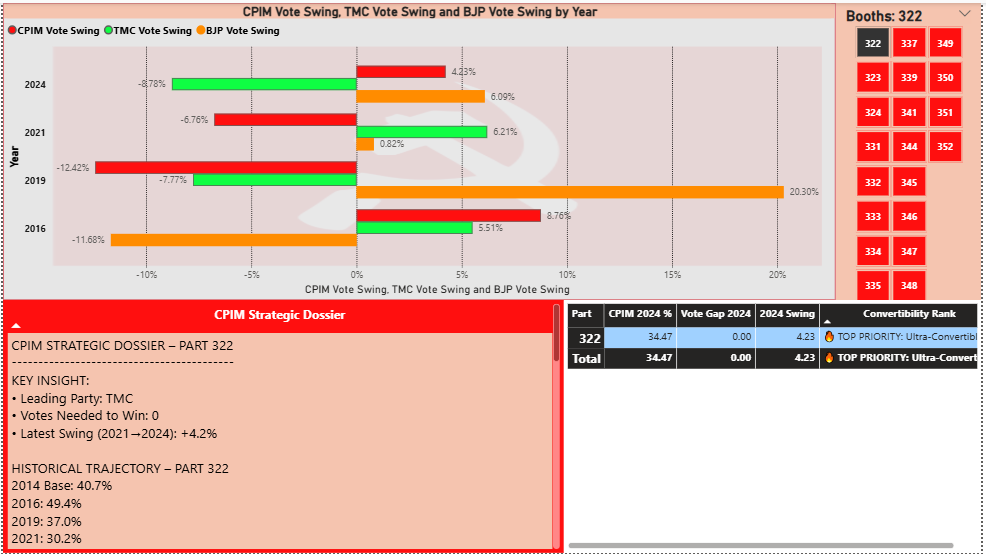

The page's visual inventory and layout, read from the dashboard file:
{"tool":"powerbi","page":{"name":"Page 2","canvas":[1280,720],"ordinal":1},"visuals":[{"type":"slicer","fields":{"Values":["Sheet1.Part"]},"box":[1090.5,0,189.8,398],"z":0},{"type":"clusteredBarChart","fields":{"Y":["Sheet1.CPIM Vote Swing","Sheet1.TMC Vote Swing","Sheet1.BJP Vote Swing"],"Category":["Sheet1.Year"]},"box":[0,0,1090.5,388.8],"z":1000},{"type":"tableEx","fields":{"Values":["Sheet1.CPIM Strategic Dossier"]},"box":[0,388.8,734.4,331.2],"z":2000},{"type":"pivotTable","fields":{"Values":["Sheet1.CPIM 2024 %","Sheet1.Vote Gap 2024","Sheet1.2024 Swing","Sheet1.Convertibility Rank"],"Rows":["Sheet1.Part"]},"box":[734.4,388.8,545.9,331.2],"z":3000}]}

Visuals, with their boxes in screenshot pixels (x1, y1, x2, y2), scaled from the page's 1280x720 canvas onto the 986x554 screenshot:
slicer - Sheet1.Part: bbox=(840, 0, 985, 306)
clusteredBarChart - Sheet1.CPIM Vote Swing x Sheet1.TMC Vote Swing: bbox=(0, 0, 840, 299)
tableEx - Sheet1.CPIM Strategic Dossier: bbox=(0, 299, 566, 553)
pivotTable - Sheet1.CPIM 2024 % x Sheet1.Vote Gap 2024: bbox=(566, 299, 985, 553)
